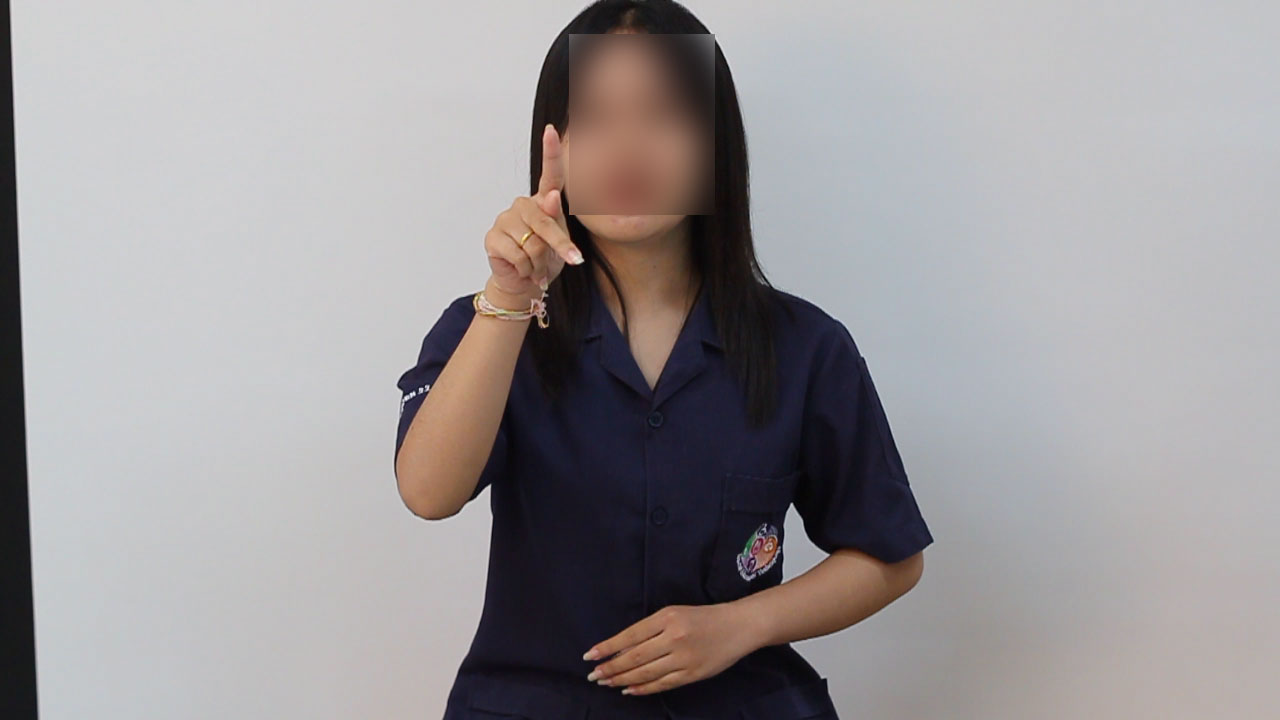por: (450, 110, 597, 313)
